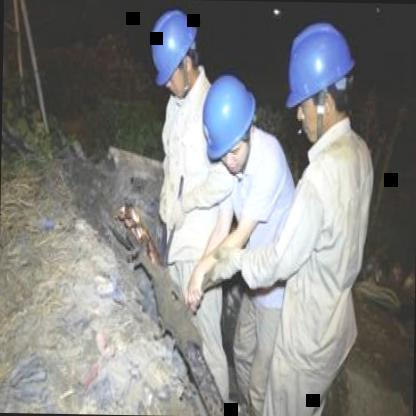helmet: (282, 15, 357, 142), (203, 72, 265, 176), (140, 4, 200, 102)
